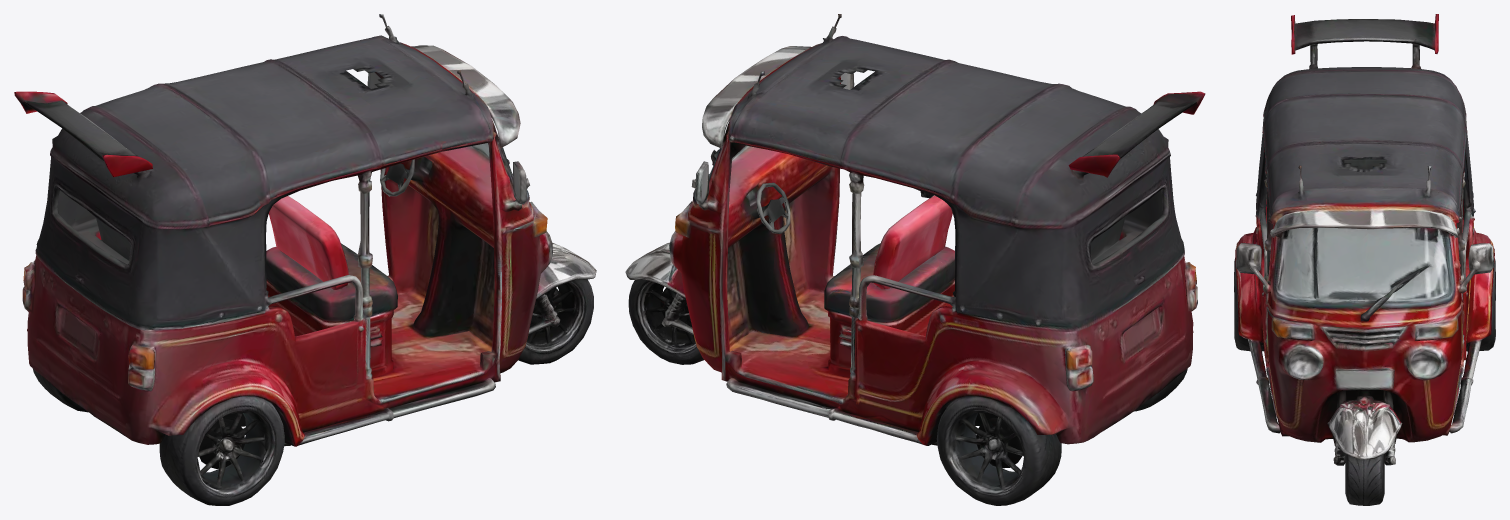
File: tukking.glb
3 views of the same model, side by side, from view 1: azimuth 30°, elevation 25°; view 2: azimuth 150°, elevation 25°; view 3: azimuth 270°, elevation 25° (orthographic). The views are drawn at different scales.
Parts seen in each view (by area): view 1: tripo_node_3a626c2a-ee75-473e-8684-4d02fdd26bb4; view 2: tripo_node_3a626c2a-ee75-473e-8684-4d02fdd26bb4; view 3: tripo_node_3a626c2a-ee75-473e-8684-4d02fdd26bb4.
Part boxes in pixels (x1,y1,x2,y2): tripo_node_3a626c2a-ee75-473e-8684-4d02fdd26bb4: (14, 14, 596, 505); tripo_node_3a626c2a-ee75-473e-8684-4d02fdd26bb4: (625, 14, 1205, 505); tripo_node_3a626c2a-ee75-473e-8684-4d02fdd26bb4: (1234, 14, 1495, 505).
Bounding box in the file's own units: 1 × 0.6281 × 0.5083.
1 material, 1 textured.
